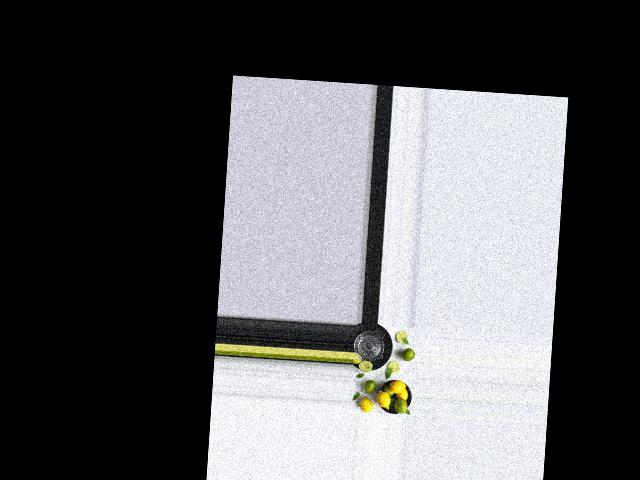lemon: (402, 347, 415, 362)
